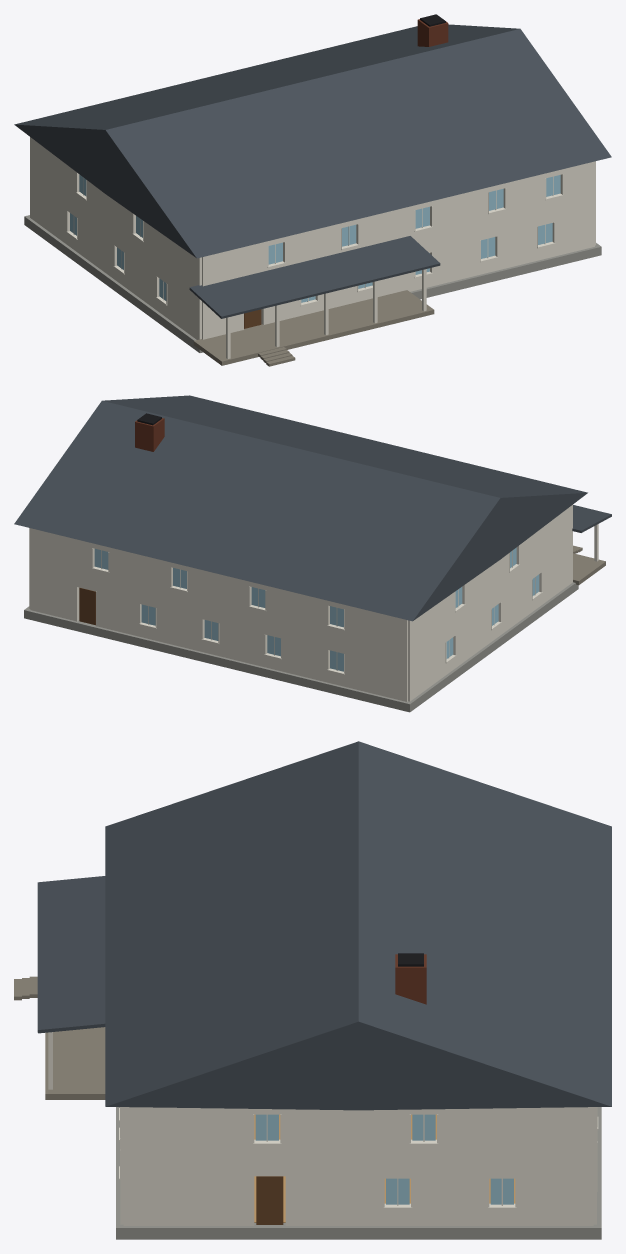
File: FM_Farmhouse_01.glb
3 views of the same model, one above another, from view 1: azimuth 30°, elevation 25°; view 2: azimuth 150°, elevation 25°; view 3: azimuth 270°, elevation 25° (orthographic). The views are drawn at different scales.
Visible parts, largest first — view 1: FM_Farmhouse_01; view 2: FM_Farmhouse_01; view 3: FM_Farmhouse_01.
Part boxes in pixels (x1=…): FM_Farmhouse_01: x1=14, y1=14, x2=611, y2=366; FM_Farmhouse_01: x1=14, y1=395, x2=611, y2=712; FM_Farmhouse_01: x1=14, y1=741, x2=611, y2=1239.
Size of the model in its own units: 25.4 by 10.1 by 22.9.
Materials: 1 (1 with a texture image).
